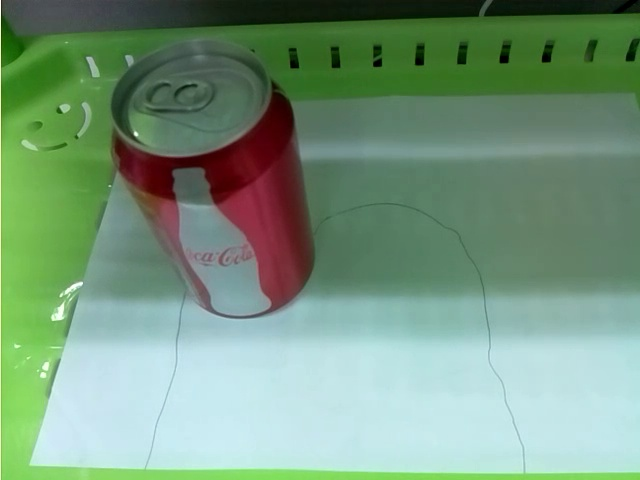cocacola: (106, 36, 317, 318)
